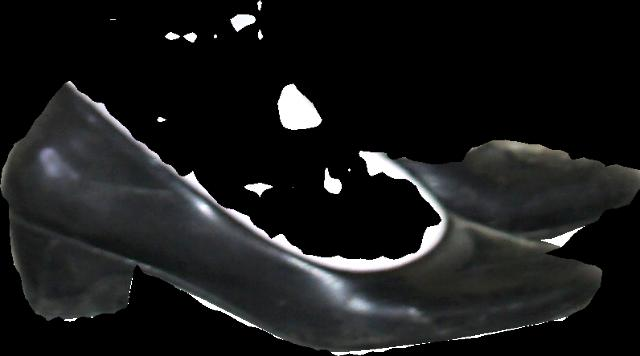blackshoes: (0, 81, 639, 355)
